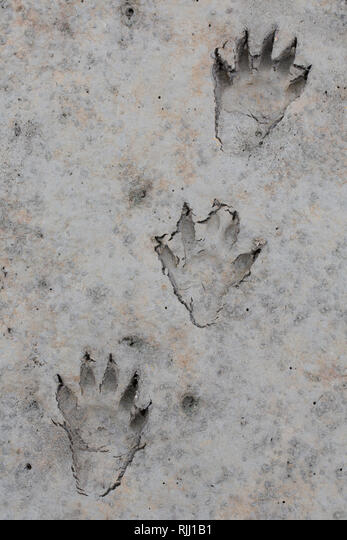raccoon: (148, 190, 272, 343), (50, 340, 155, 501), (202, 21, 320, 158)
